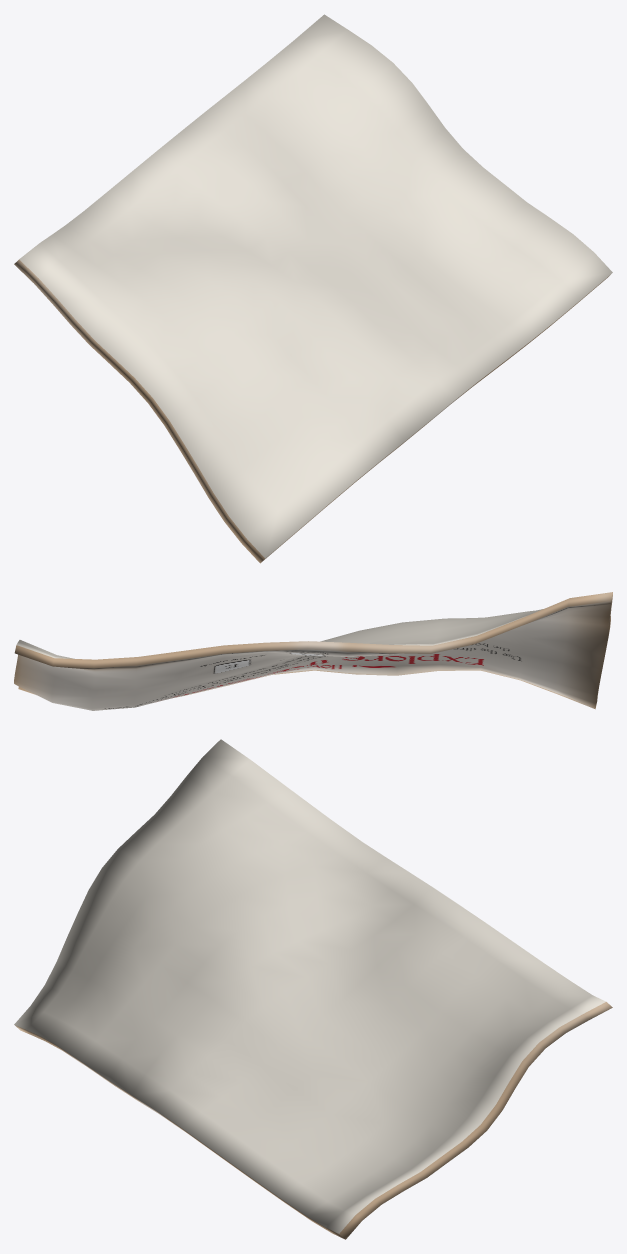
The model's file is regras.glb.
The picture shows the model from 3 angles, top to bottom: view 1: azimuth 30°, elevation 25°; view 2: azimuth 150°, elevation 25°; view 3: azimuth 270°, elevation 25°; orthographic projection. The views are drawn at different scales.
Visible parts, largest first — view 1: How to explore; view 2: How to explore; view 3: How to explore.
Boxes of the visible parts, box(x1,y1,x2,y2) form: How to explore: box(14, 14, 612, 563); How to explore: box(14, 592, 612, 710); How to explore: box(14, 739, 612, 1239).
Bounding box in the file's own units: 0.0836 × 0.031 × 0.0721.
Materials: 2 (1 with a texture image).
